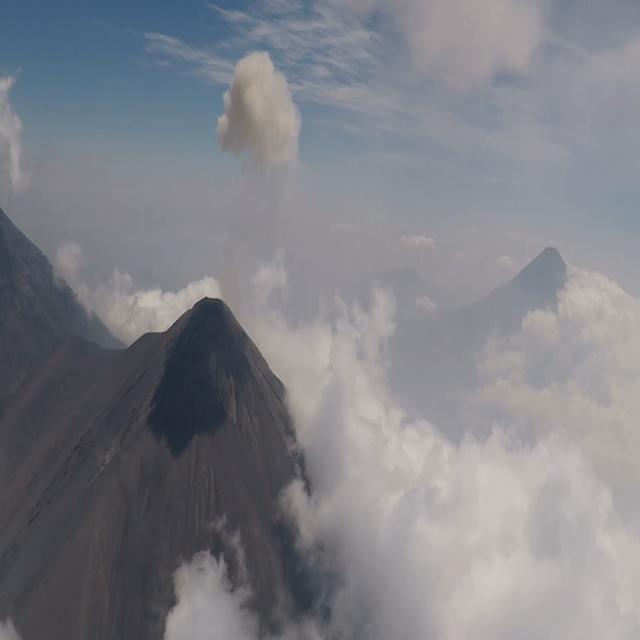Plume: (215, 44, 309, 179)
Summit: (121, 286, 285, 420)
